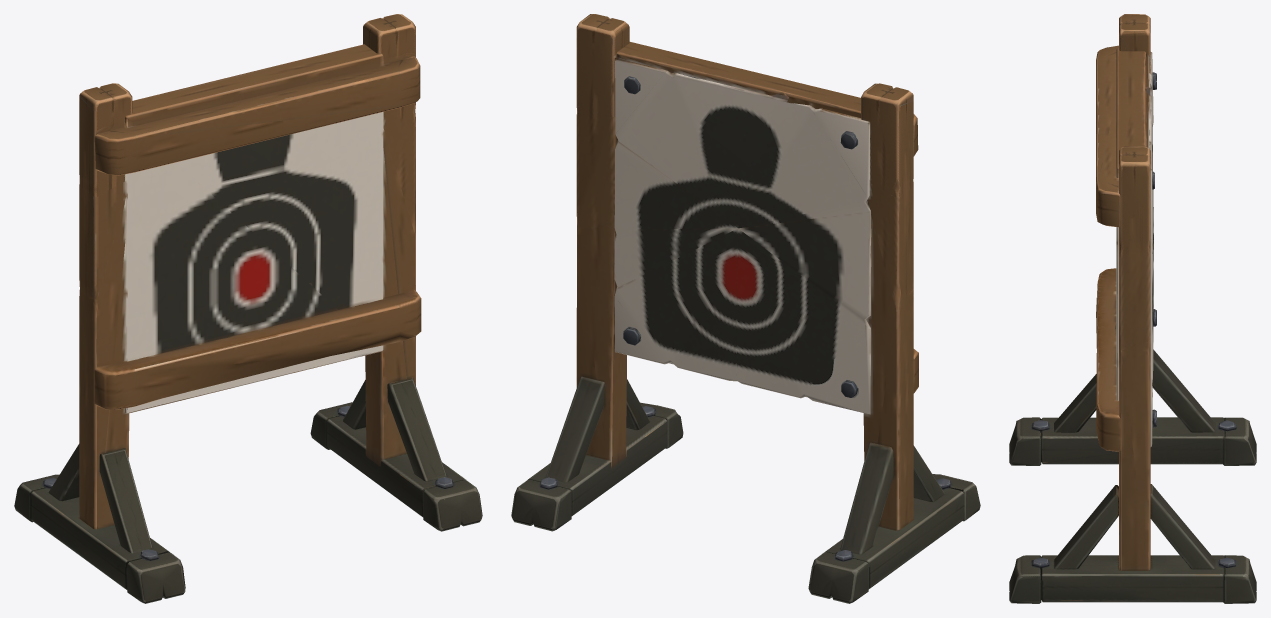
Rendered from target.glb.
3 views of the same model, side by side, from view 1: azimuth 30°, elevation 25°; view 2: azimuth 150°, elevation 25°; view 3: azimuth 270°, elevation 25° (orthographic). The views are drawn at different scales.
Bounding box in the file's own units: 0.7417 × 0.9536 × 0.4888.
Materials: 1 (1 with a texture image).
